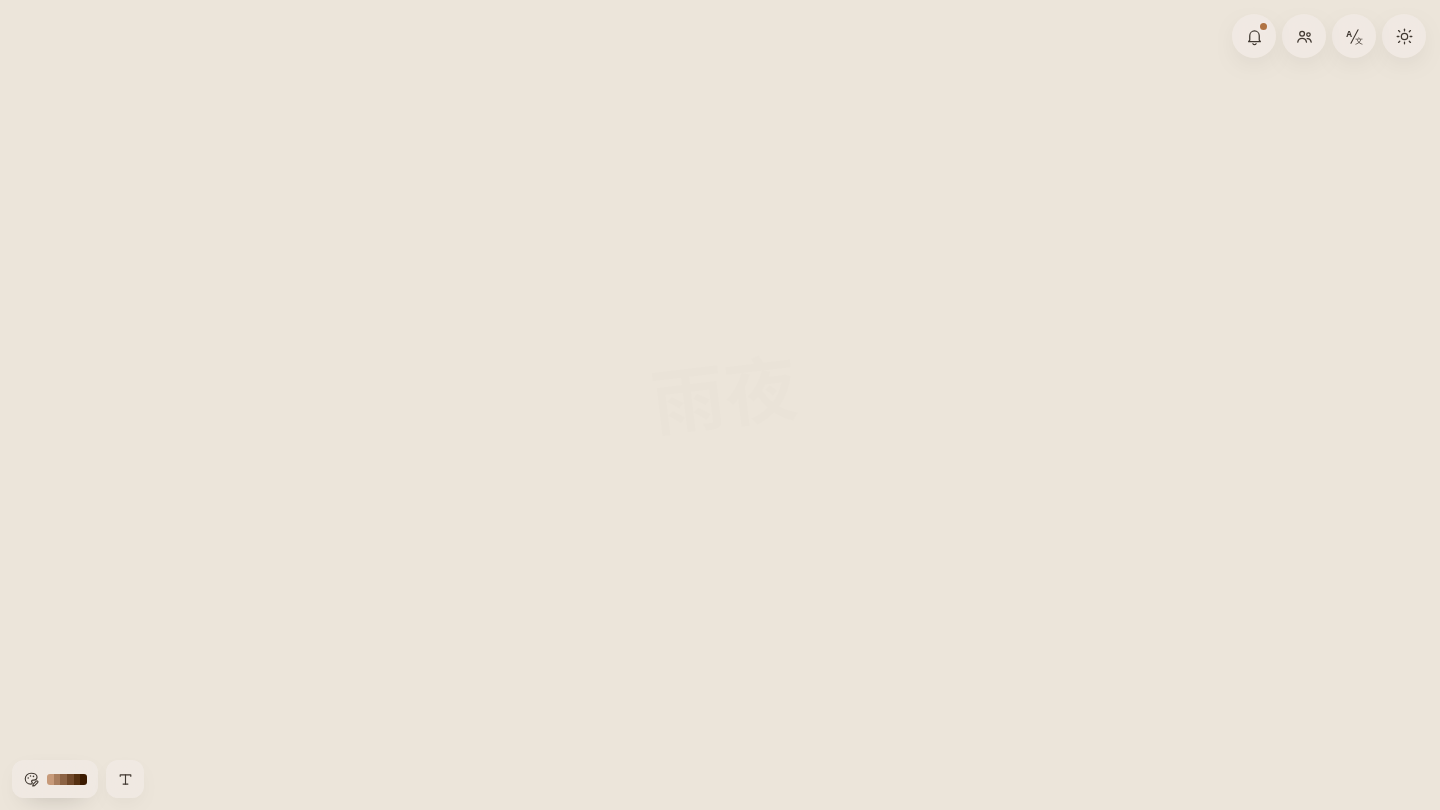
site notice › a notice without a title renders no empty line for one
Click the button named "站内通知": (1254, 36) x1=1232 y1=14 x2=1276 y2=58
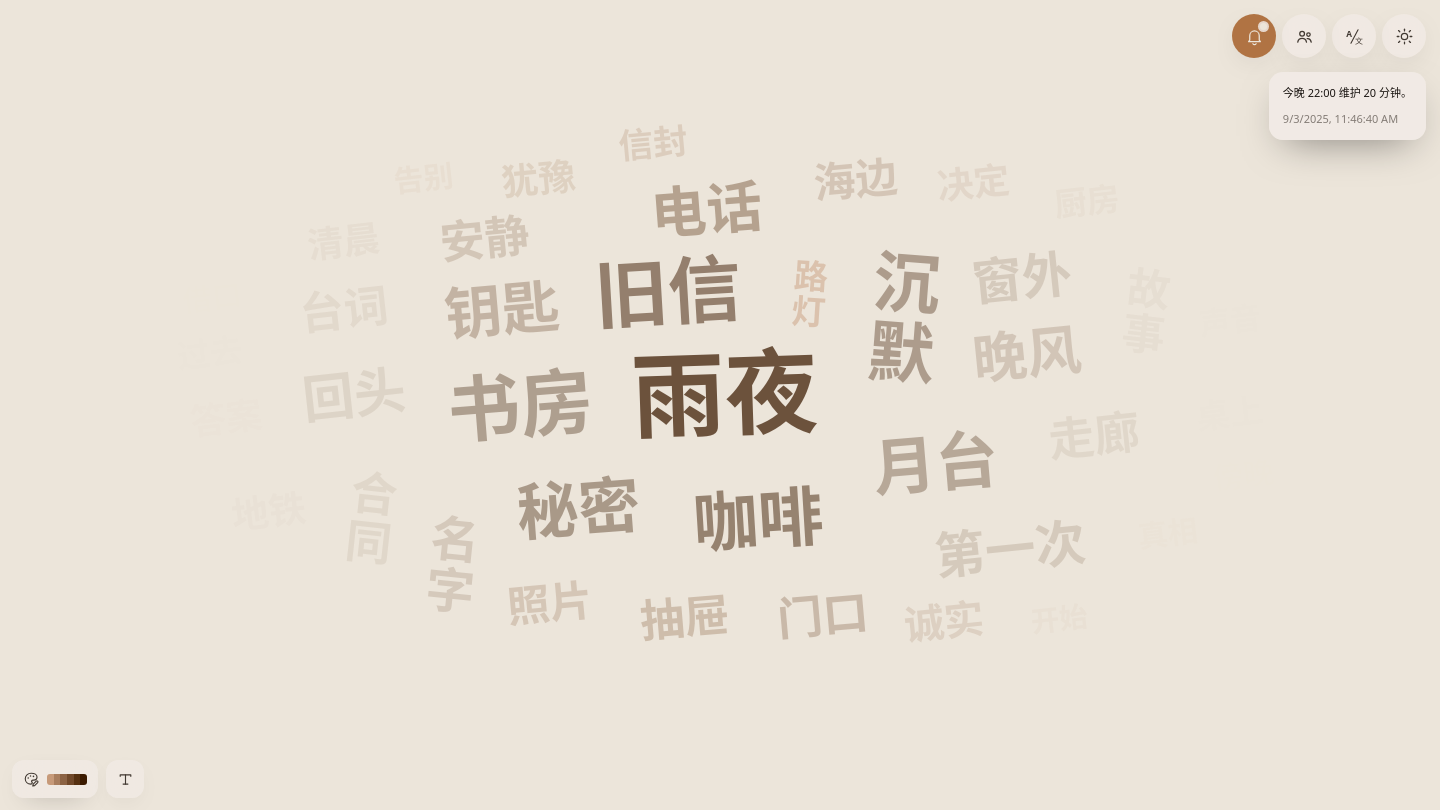
Expected: the text "今晚 22:00 维护 20 分钟。" is shown, x1=1283 y1=84 x2=1412 y2=102
